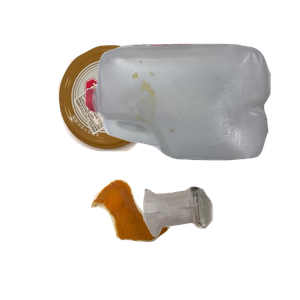glass: (141, 184, 300, 300)
metal: (56, 43, 211, 187)
plastic: (83, 41, 300, 194)
trash: (88, 177, 251, 300)
